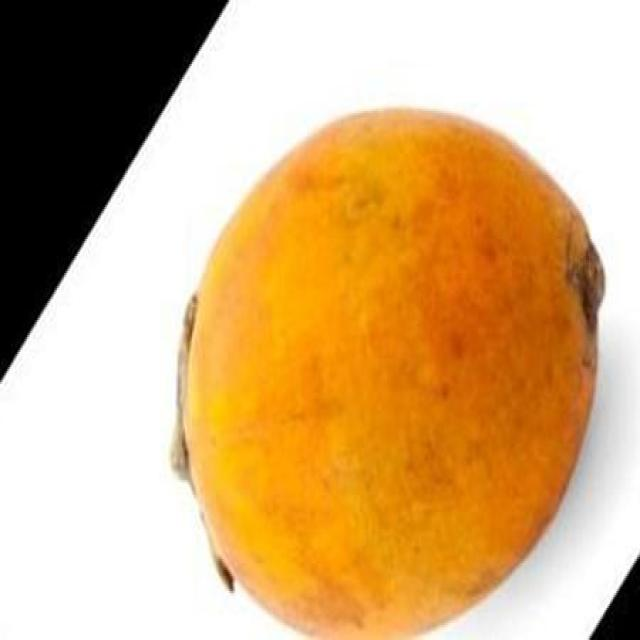good: (176, 109, 607, 638)
